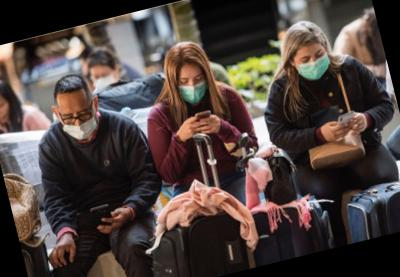with_mask: (59, 104, 104, 146), (294, 47, 335, 84), (176, 70, 213, 109), (89, 67, 119, 91)
